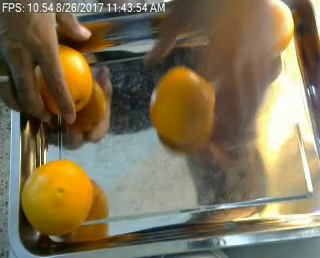Orange: (21, 159, 94, 237)
